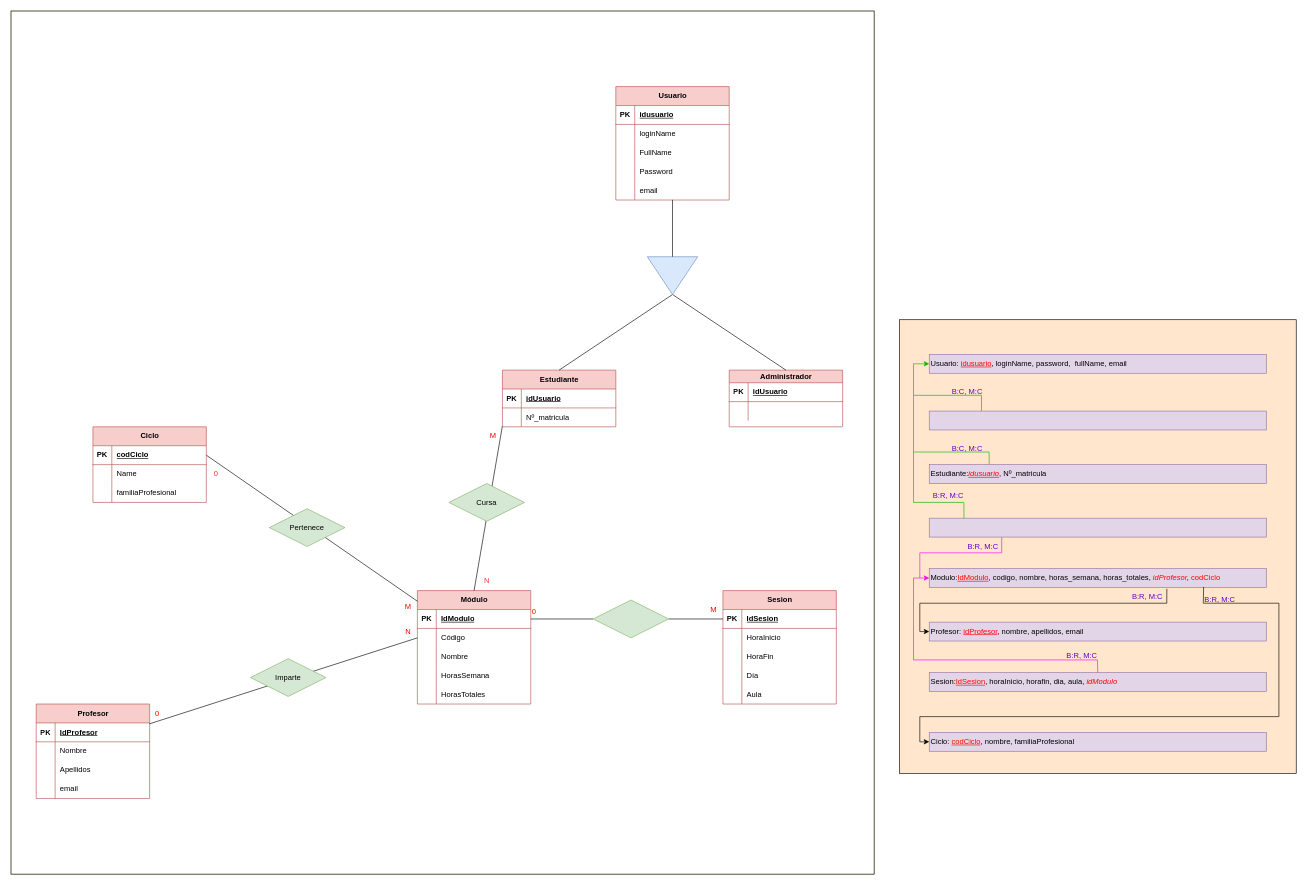
Some shapes in this 1307 by 885 pixel diagram are drawn without their labels. Each missing label, with the centre of its shape:
Administrador: idusuario: (1097,420)
consta: (631,618)
Cursa: idusuario , IdModulo: (1097,527)
Tipo: (672,275)
